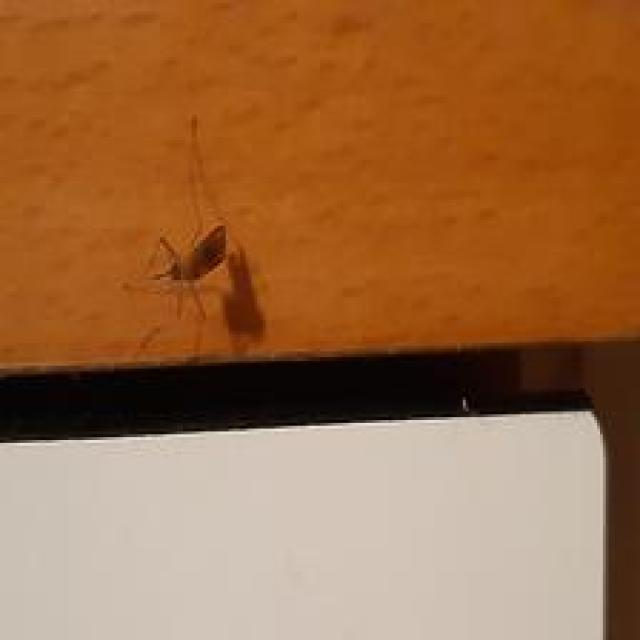Culex: (122, 113, 267, 358)
